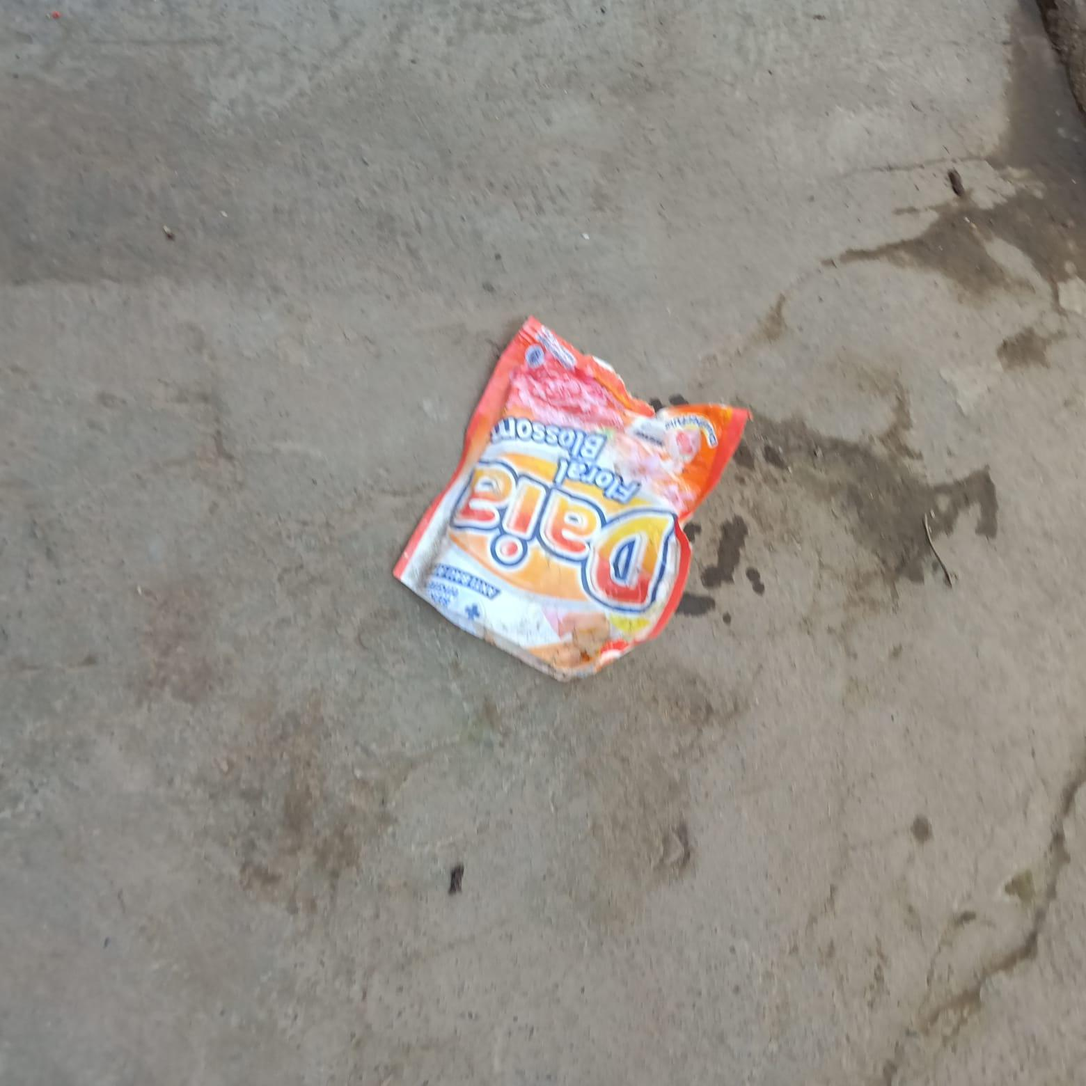Plastik: (394, 311, 743, 678)
